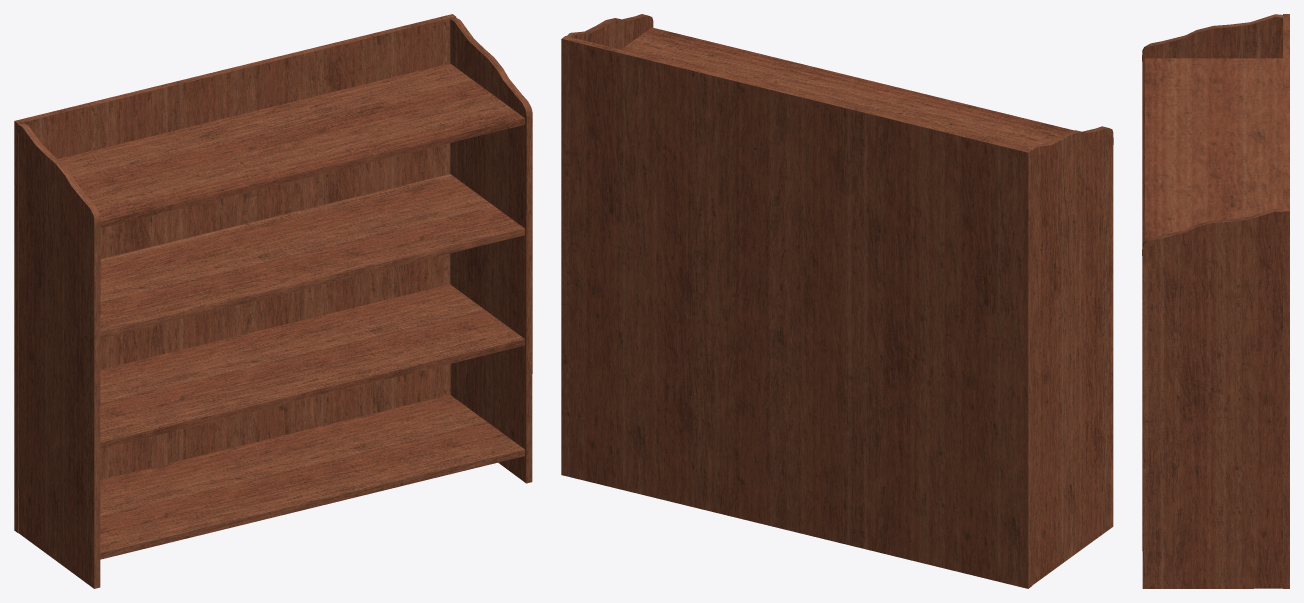
The model's file is SM_BookCase_c_001.fbx.
3 views of the same model, side by side, from view 1: azimuth 30°, elevation 25°; view 2: azimuth 150°, elevation 25°; view 3: azimuth 270°, elevation 25° (orthographic). The views are drawn at different scales.
Visible parts, largest first — view 1: SM_BookCase_c_001; view 2: SM_BookCase_c_001; view 3: SM_BookCase_c_001.
Part boxes in pixels (x1,y1,x2,y2): SM_BookCase_c_001: (14, 14, 532, 588); SM_BookCase_c_001: (561, 14, 1113, 588); SM_BookCase_c_001: (1142, 14, 1289, 588).
Bounding box in the file's own units: 125 × 111 × 39.4.
